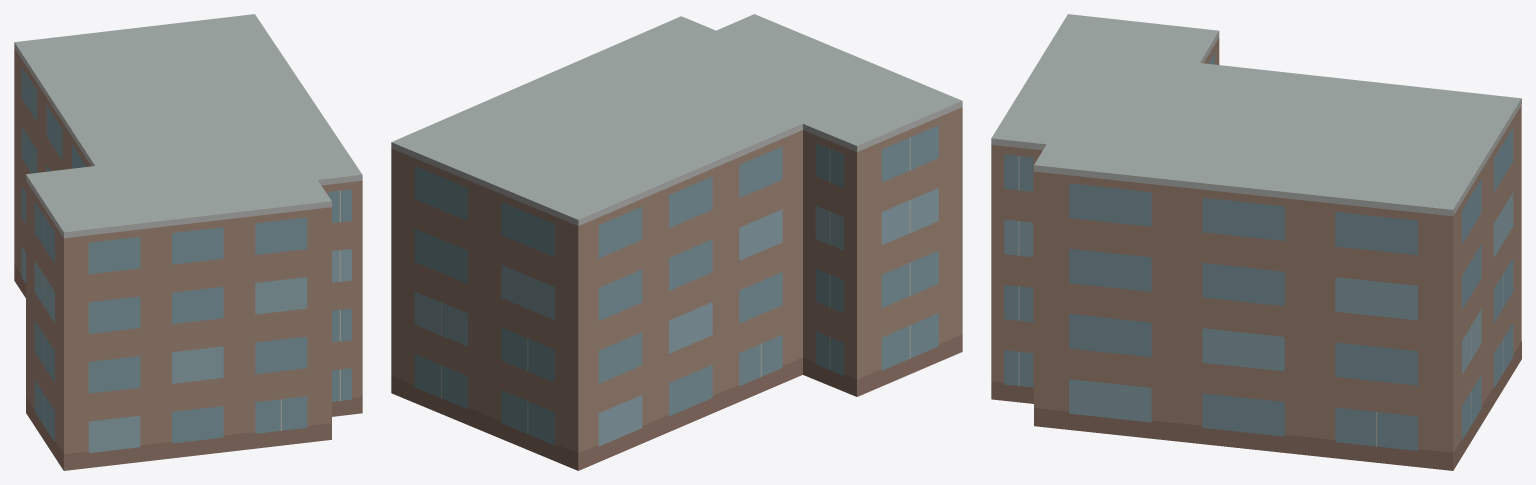
File: survey-upis-32973655.glb
The picture shows the model from 3 angles, left to right: view 1: azimuth 30°, elevation 25°; view 2: azimuth 150°, elevation 25°; view 3: azimuth 270°, elevation 25°; orthographic projection. The views are drawn at different scales.
Parts seen in each view (by area): view 1: survey-upis-32973655.tmp; view 2: survey-upis-32973655.tmp; view 3: survey-upis-32973655.tmp.
Part boxes in pixels (x1,y1,x2,y2): survey-upis-32973655.tmp: (14, 14, 362, 470); survey-upis-32973655.tmp: (391, 14, 962, 470); survey-upis-32973655.tmp: (991, 14, 1521, 470).
Size of the model in its own units: 15.95 by 9.9 by 18.25.
